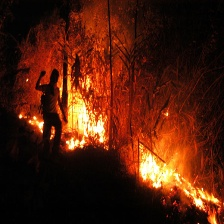fire: (138, 150, 219, 224), (66, 115, 112, 152), (20, 112, 44, 133)
